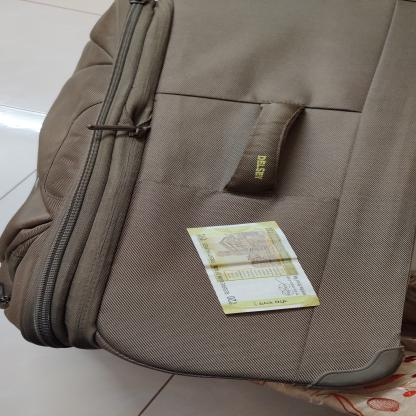New20Back: (185, 221, 322, 316)
